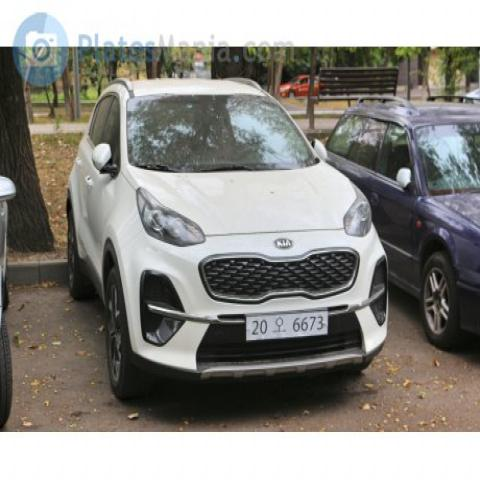LP: (241, 300, 330, 344)
